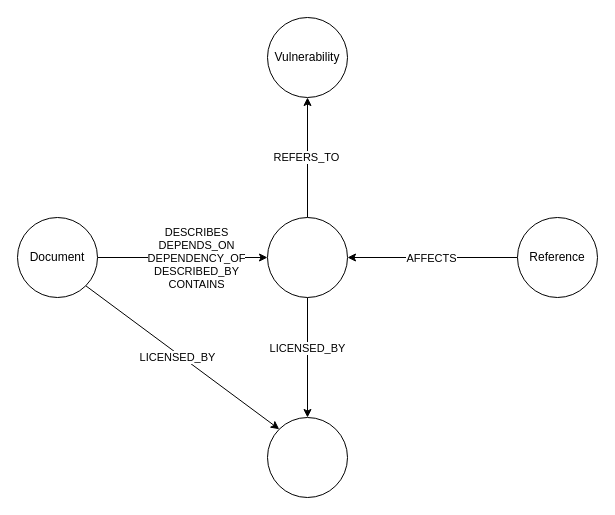
This 615x515 diagram has some shape labels left out. The shapes that lost their labels are listed below. From the top down, each one's centre as x and y in pixels, then its label:
At pixel 307 257: "Component".
At pixel 307 457: "License".
